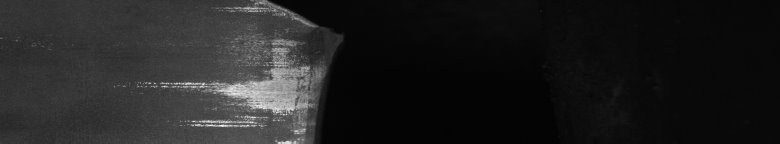kb: (114, 0, 330, 144)
